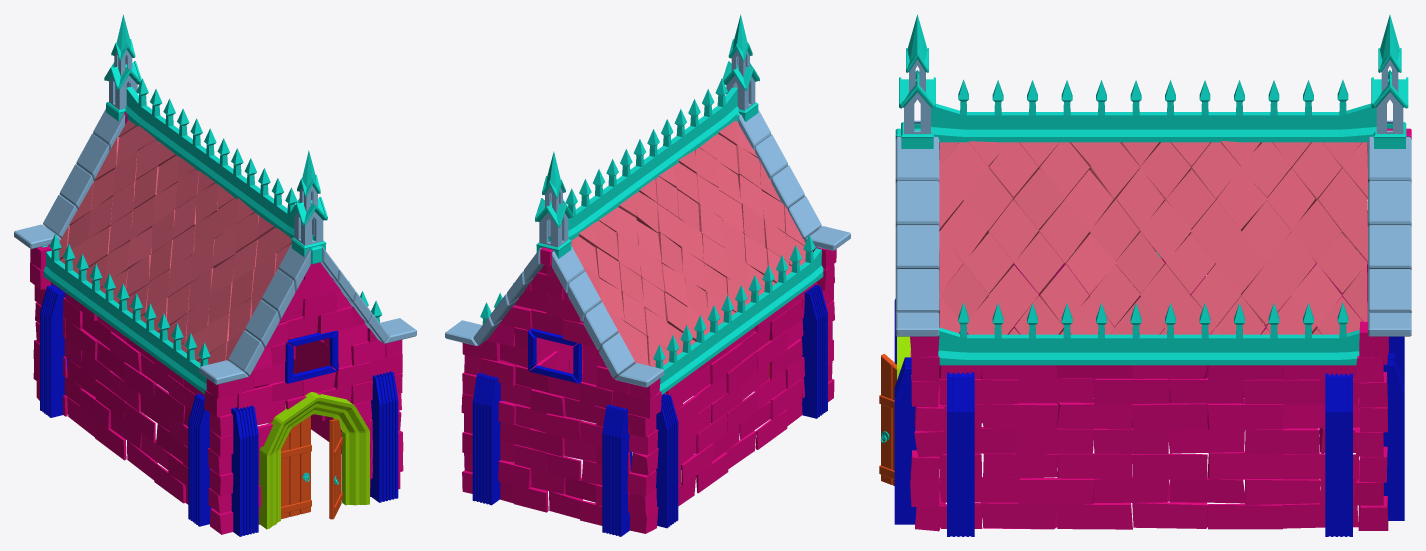
File: cemetry_house.fbx
3 views of the same model, side by side, from view 1: azimuth 30°, elevation 25°; view 2: azimuth 150°, elevation 25°; view 3: azimuth 270°, elevation 25° (orthographic). The views are drawn at different scales.
Visible parts, largest first — view 1: small_catle; view 2: small_catle; view 3: small_catle.
Part boxes in pixels (x1,y1,x2,y2): small_catle: (14, 14, 416, 536); small_catle: (445, 14, 850, 536); small_catle: (879, 14, 1411, 536).
Size of the model in its own units: 1070 by 1837 by 1919.
